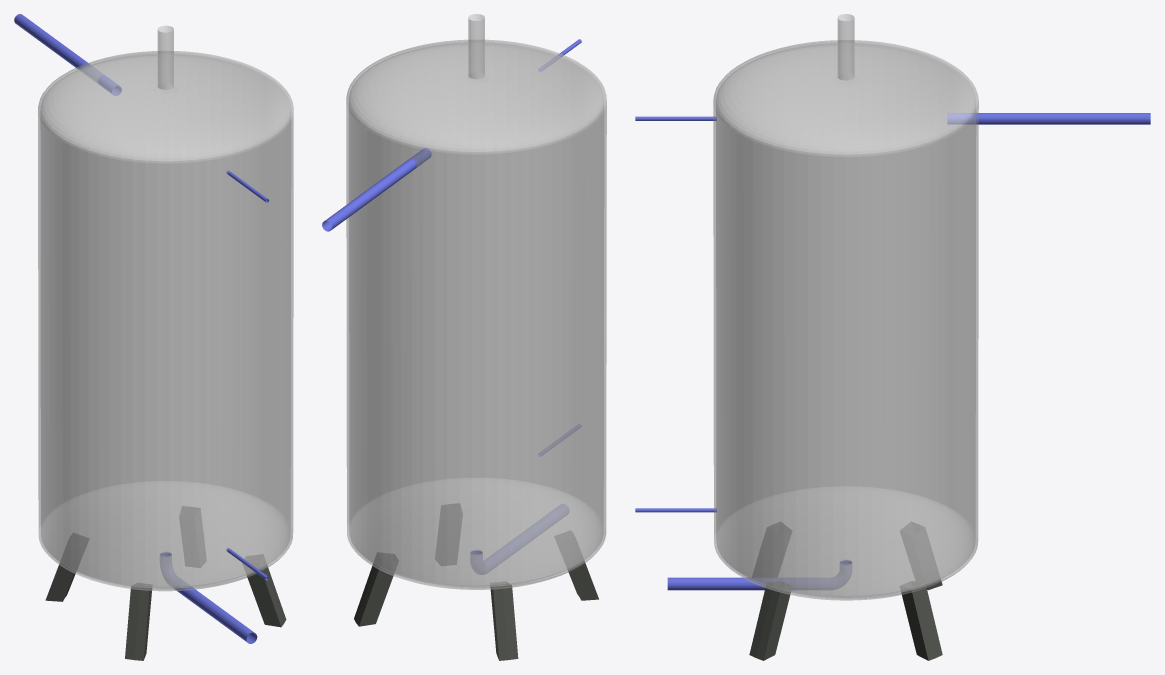
File: TankLow.fbx
3 renders of one model, left to right at view 1: azimuth 30°, elevation 25°; view 2: azimuth 150°, elevation 25°; view 3: azimuth 270°, elevation 25°, orthographic. The views are drawn at different scales.
Visible parts, largest first — view 1: Tank; view 2: Tank; view 3: Tank.
Boxes of the visible parts, x1,y1,x2,y2 form: Tank: [14, 14, 293, 660]; Tank: [322, 14, 606, 660]; Tank: [635, 14, 1150, 660].
Size of the model in its own units: 86.23 by 216 by 167.
